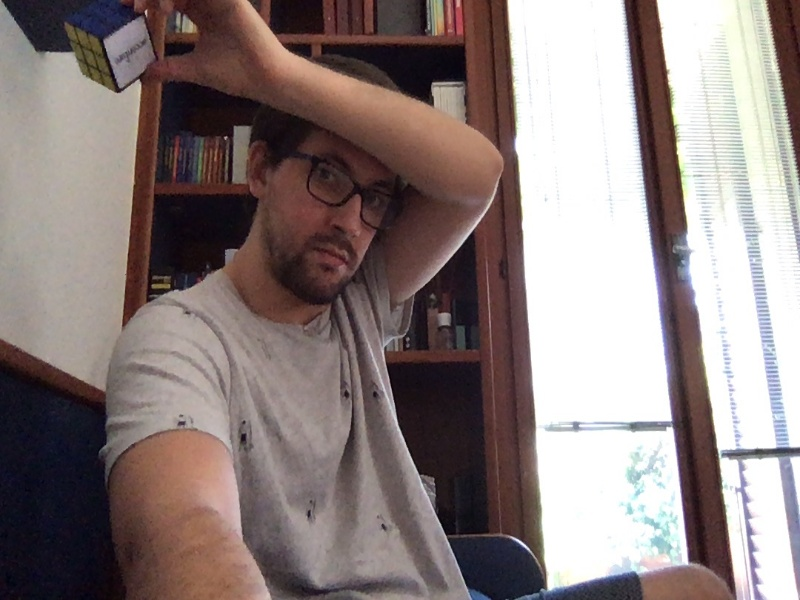rubik: (64, 1, 157, 95)
